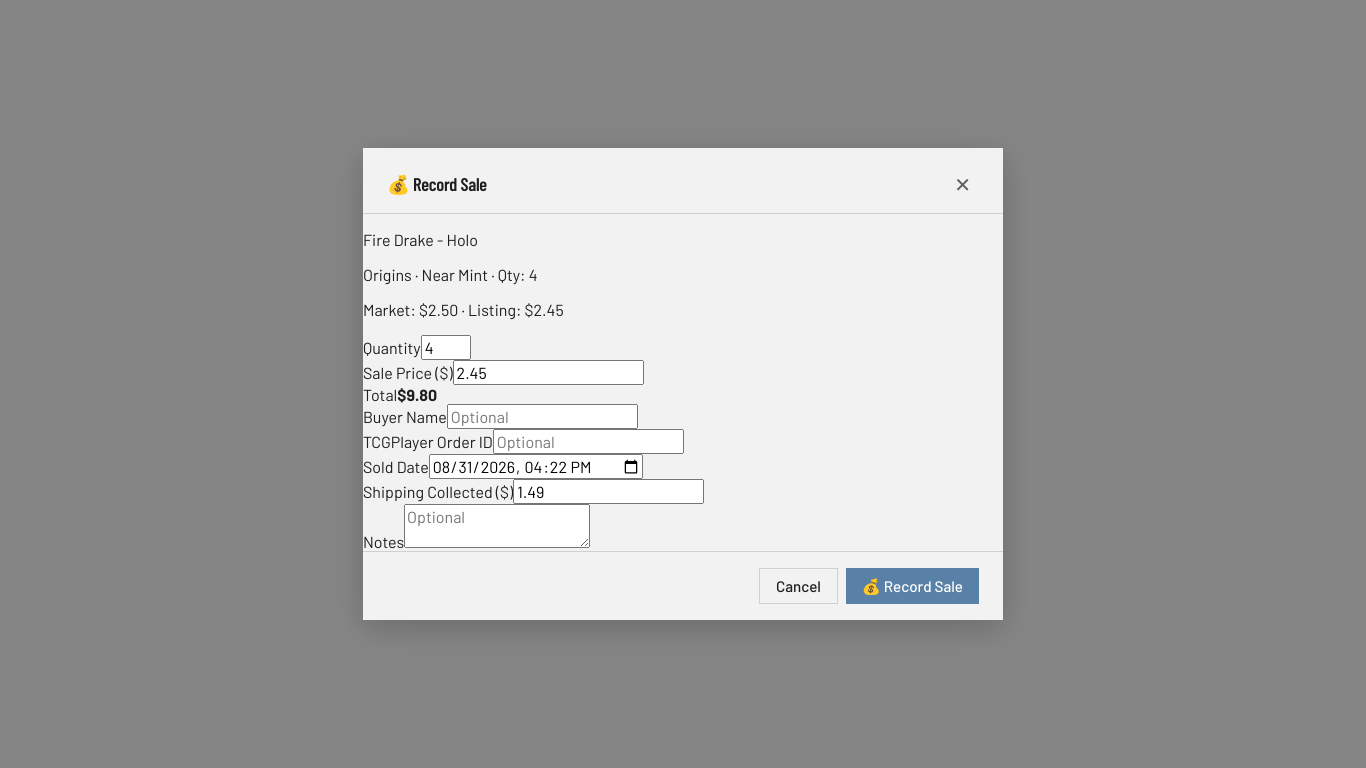
Test case: RecordSaleModal › validates quantity does not exceed card.quantity
Replace the text in the number field labelled "Quantity" with "10" at (446, 348), box [421,335,471,360]
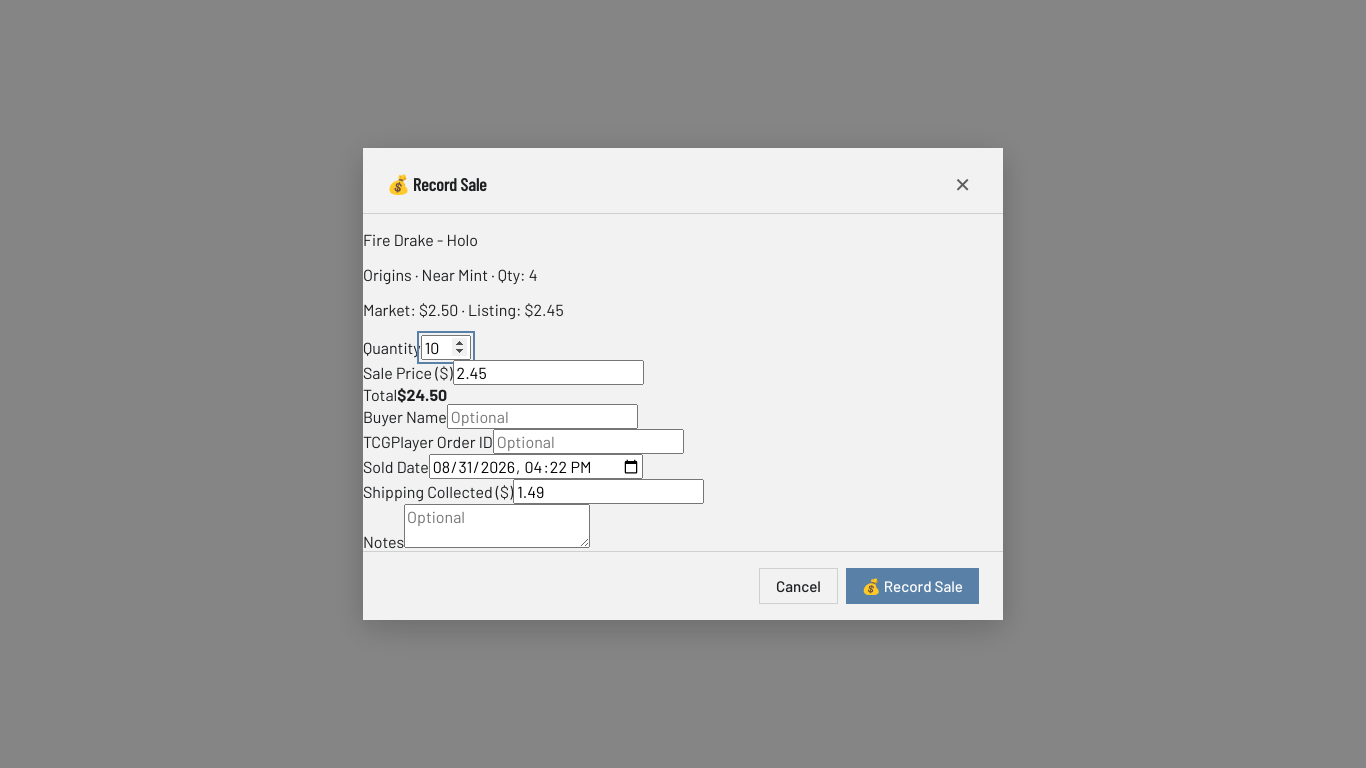
Click the button "💰 Record Sale" at (912, 586), box [846,568,979,604]
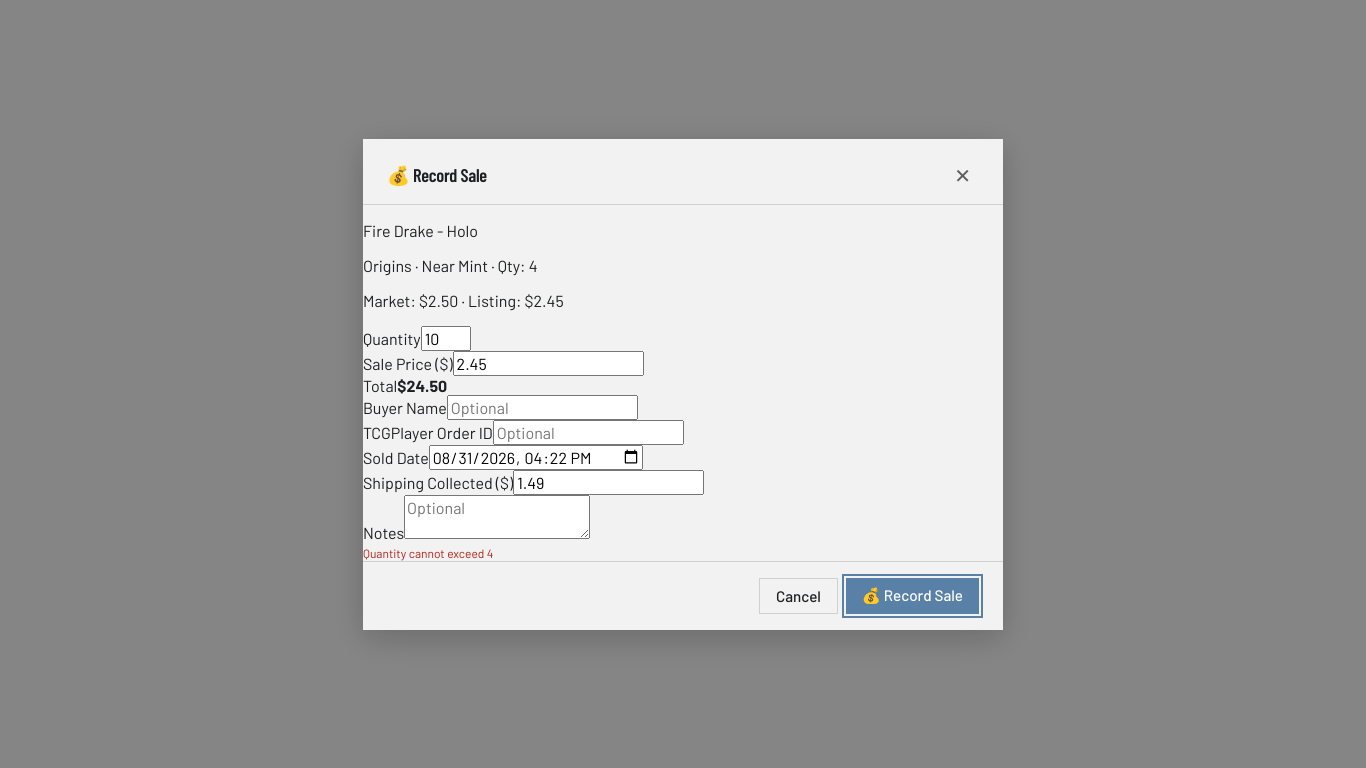
Expected: the text "Quantity cannot exceed 4" is shown, [363,546,493,560]
